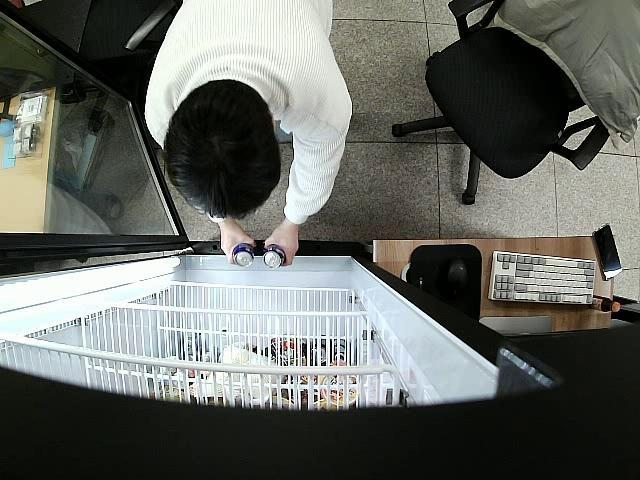14_welchsGrape: (229, 241, 256, 268), (260, 244, 284, 270)
